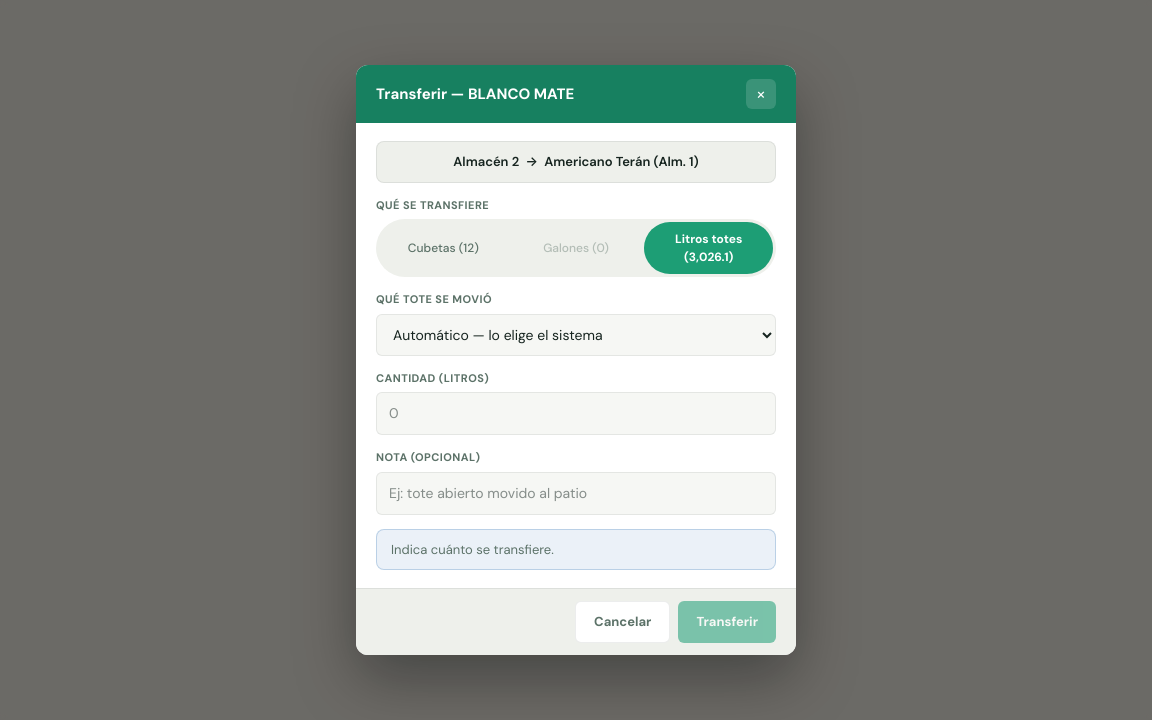
elegir el tote al transferir litros › al elegir un tote precarga sus litros — mover uno completo es lo normal
This screenshot has width=1152, height=720.
Select "USA2-0009-03 — 981 L" in the dropdown at (576, 335), box x1=376 y1=314 x2=776 y2=356
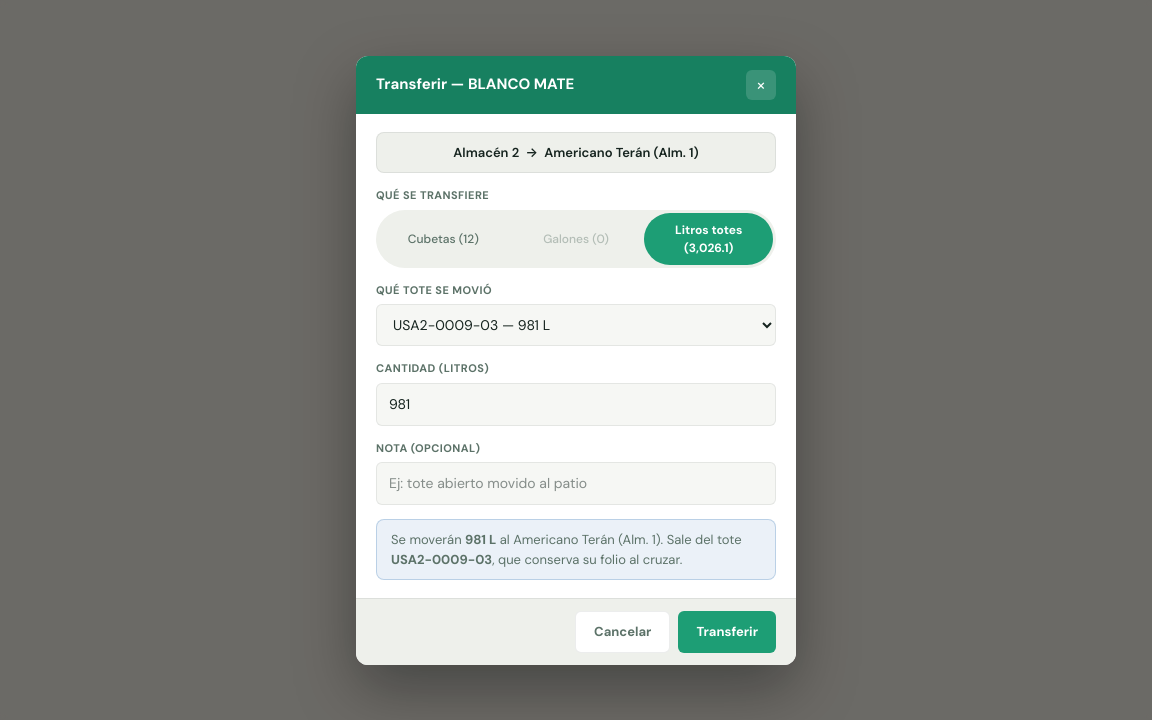
Now the number field holds "981", box x1=376 y1=382 x2=776 y2=426
